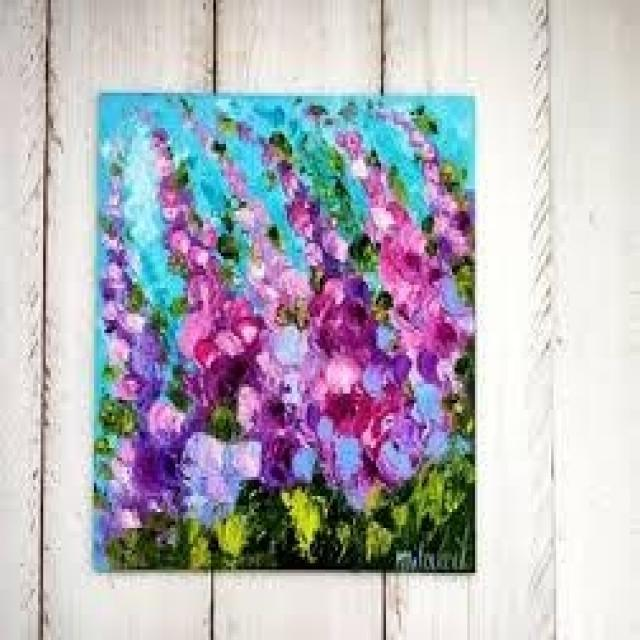painting: (92, 91, 475, 573)
